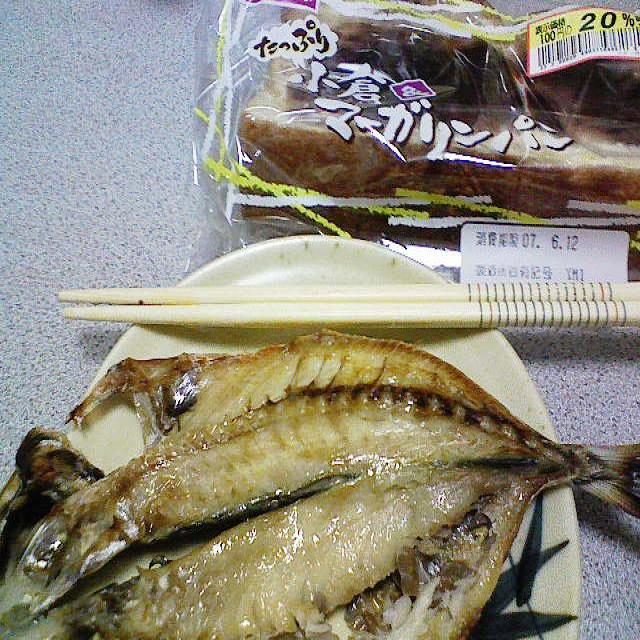熟制海鲜: (24, 320, 640, 640)
